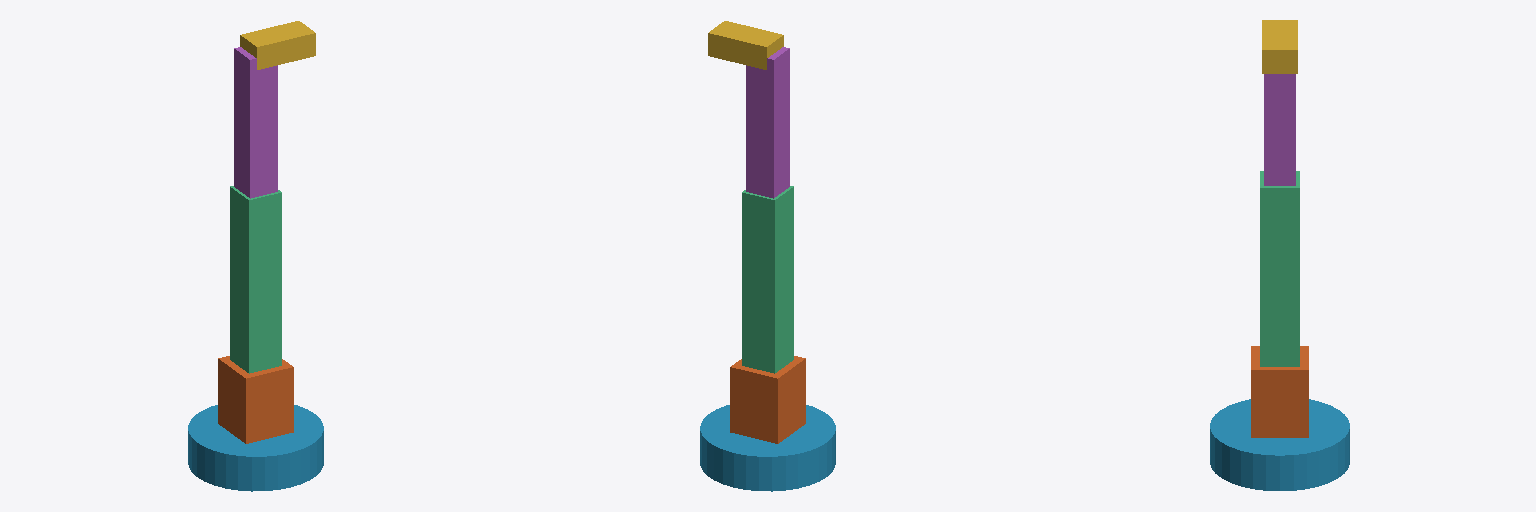
URDF robot description (basic_robot_arm):
<?xml version="1.0"?>
<robot name="basic_robot_arm" version="1.2">
  <material name="base_blue">
    <color rgba="0.22 0.62 0.78 1"/>
  </material>
  <material name="shoulder_orange">
    <color rgba="0.86 0.46 0.22 1"/>
  </material>
  <material name="arm_green">
    <color rgba="0.34 0.76 0.55 1"/>
  </material>
  <material name="forearm_purple">
    <color rgba="0.72 0.42 0.78 1"/>
  </material>
  <material name="tool_yellow">
    <color rgba="0.88 0.72 0.25 1"/>
  </material>

  <link name="base_link">
    <inertial>
      <origin xyz="0 0 0" rpy="0 0 0"/>
      <mass value="4"/>
      <inertia ixx="0.1048" ixy="0" ixz="0" iyy="0.1048" iyz="0" izz="0.2048"/>
    </inertial>
    <visual>
      <origin xyz="0 0 0" rpy="0 0 0"/>
      <geometry><cylinder radius="0.32" length="0.18"/></geometry>
      <material name="base_blue"/>
    </visual>
    <collision>
      <origin xyz="0 0 0" rpy="0 0 0"/>
      <geometry><cylinder radius="0.32" length="0.18"/></geometry>
    </collision>
  </link>

  <link name="shoulder_link">
    <inertial>
      <origin xyz="0 0 0" rpy="0 0 0"/>
      <mass value="2"/>
      <inertia ixx="0.03086666667" ixy="0" ixz="0" iyy="0.03086666667" iyz="0" izz="0.02253333333"/>
    </inertial>
    <visual>
      <origin xyz="0 0 0.17" rpy="0 0 0"/>
      <geometry><box size="0.26 0.26 0.34"/></geometry>
      <material name="shoulder_orange"/>
    </visual>
    <collision>
      <origin xyz="0 0 0.17" rpy="0 0 0"/>
      <geometry><box size="0.26 0.26 0.34"/></geometry>
    </collision>
  </link>

  <link name="upper_arm">
    <inertial>
      <origin xyz="0 0 0" rpy="0 0 0"/>
      <mass value="1.5"/>
      <inertia ixx="0.1053" ixy="0" ixz="0" iyy="0.1053" iyz="0" izz="0.0081"/>
    </inertial>
    <visual>
      <origin xyz="0 0 0.45" rpy="0 0 0"/>
      <geometry><box size="0.18 0.18 0.9"/></geometry>
      <material name="arm_green"/>
    </visual>
    <collision>
      <origin xyz="0 0 0.45" rpy="0 0 0"/>
      <geometry><box size="0.18 0.18 0.9"/></geometry>
    </collision>
  </link>

  <link name="forearm">
    <inertial>
      <origin xyz="0 0 0" rpy="0 0 0"/>
      <mass value="1.1"/>
      <inertia ixx="0.04955625" ixy="0" ixz="0" iyy="0.04955625" iyz="0" izz="0.004125"/>
    </inertial>
    <visual>
      <origin xyz="0 0 0.36" rpy="0 0 0"/>
      <geometry><box size="0.15 0.15 0.72"/></geometry>
      <material name="forearm_purple"/>
    </visual>
    <collision>
      <origin xyz="0 0 0.36" rpy="0 0 0"/>
      <geometry><box size="0.15 0.15 0.72"/></geometry>
    </collision>
  </link>

  <link name="tool_link">
    <inertial>
      <origin xyz="0 0 0" rpy="0 0 0"/>
      <mass value="0.35"/>
      <inertia ixx="0.0007933333333" ixy="0" ixz="0" iyy="0.003406666667" iyz="0" izz="0.003733333333"/>
    </inertial>
    <visual>
      <origin xyz="0.12 0 0" rpy="0 0 0"/>
      <geometry><box size="0.32 0.16 0.12"/></geometry>
      <material name="tool_yellow"/>
    </visual>
    <collision>
      <origin xyz="0.12 0 0" rpy="0 0 0"/>
      <geometry><box size="0.32 0.16 0.12"/></geometry>
    </collision>
  </link>

  <joint name="base_yaw" type="continuous">
    <parent link="base_link"/>
    <child link="shoulder_link"/>
    <origin xyz="0 0 0.09" rpy="0 0 0"/>
    <axis xyz="0 0 1"/>
    <limit effort="25" velocity="2"/>
    <dynamics damping="0.15" friction="0.02"/>
  </joint>

  <joint name="shoulder_pitch" type="revolute">
    <parent link="shoulder_link"/>
    <child link="upper_arm"/>
    <origin xyz="0 0 0.34" rpy="0 0 0"/>
    <axis xyz="0 1 0"/>
    <limit lower="-1.6" upper="1.6" effort="22" velocity="2"/>
    <dynamics damping="0.2" friction="0.01"/>
  </joint>

  <joint name="elbow_pitch" type="revolute">
    <parent link="upper_arm"/>
    <child link="forearm"/>
    <origin xyz="0 0 0.9" rpy="0 0 0"/>
    <axis xyz="0 1 0"/>
    <limit lower="-2.2" upper="0.3" effort="18" velocity="2.5"/>
  </joint>

  <joint name="wrist_slide" type="prismatic">
    <parent link="forearm"/>
    <child link="tool_link"/>
    <origin xyz="0 0 0.72" rpy="0 0 0"/>
    <axis xyz="1 0 0"/>
    <limit lower="0" upper="0.25" effort="10" velocity="0.4"/>
  </joint>
</robot>

--- Facts derived from the render (not from the file) ---
3 views of the same robot in one strip: view 1: azimuth 30°, elevation 25°; view 2: azimuth 150°, elevation 25°; view 3: azimuth 270°, elevation 25° (orthographic).
Robot: basic_robot_arm — 5 links, 4 joints (2 revolute, 1 continuous, 1 prismatic); root link base_link; default pose: every joint at zero.
Links seen in each view (by area): view 1: upper_arm, base_link, forearm, shoulder_link, tool_link; view 2: upper_arm, base_link, forearm, shoulder_link, tool_link; view 3: base_link, upper_arm, shoulder_link, forearm, tool_link.
Boxes of the visible links, left/top/right/bottom form: upper_arm: left=230, top=186, right=281, bottom=373; base_link: left=188, top=405, right=323, bottom=491; forearm: left=234, top=47, right=277, bottom=198; shoulder_link: left=218, top=356, right=293, bottom=443; tool_link: left=240, top=21, right=315, bottom=69; upper_arm: left=742, top=186, right=793, bottom=373; base_link: left=700, top=405, right=835, bottom=491; forearm: left=746, top=47, right=789, bottom=198; shoulder_link: left=730, top=356, right=805, bottom=443; tool_link: left=708, top=21, right=783, bottom=69; base_link: left=1210, top=399, right=1349, bottom=490; upper_arm: left=1260, top=171, right=1299, bottom=366; shoulder_link: left=1251, top=346, right=1308, bottom=437; forearm: left=1264, top=74, right=1295, bottom=185; tool_link: left=1262, top=20, right=1297, bottom=73.
Size in the robot's own frame: 0.64 by 0.64 by 2.2 metres.
Geometry: primitives only (box / cylinder / sphere), no mesh files.
